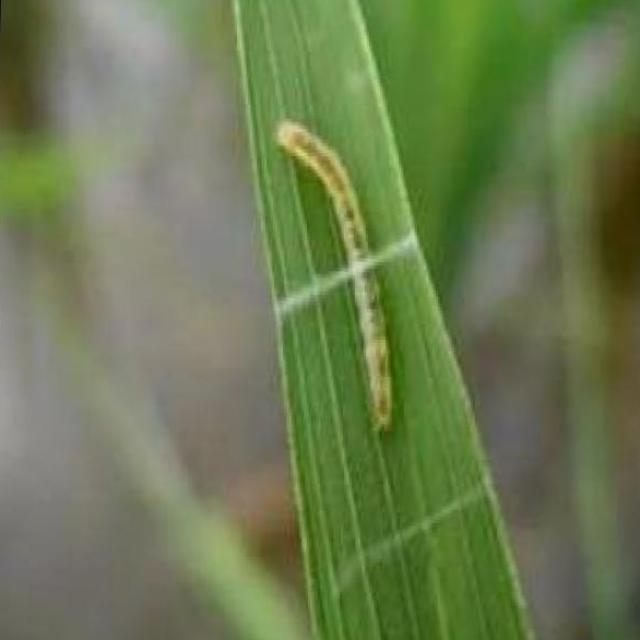leaf folder: (275, 120, 391, 431)
